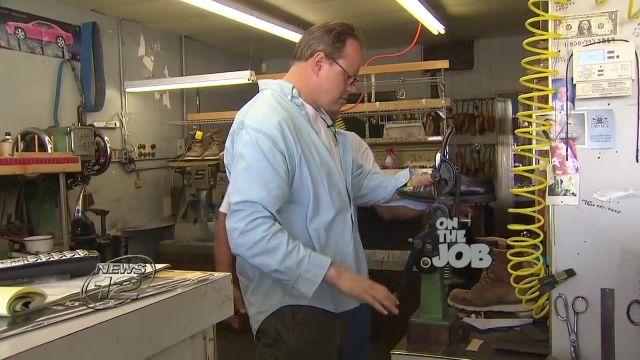person: (220, 18, 455, 356)
